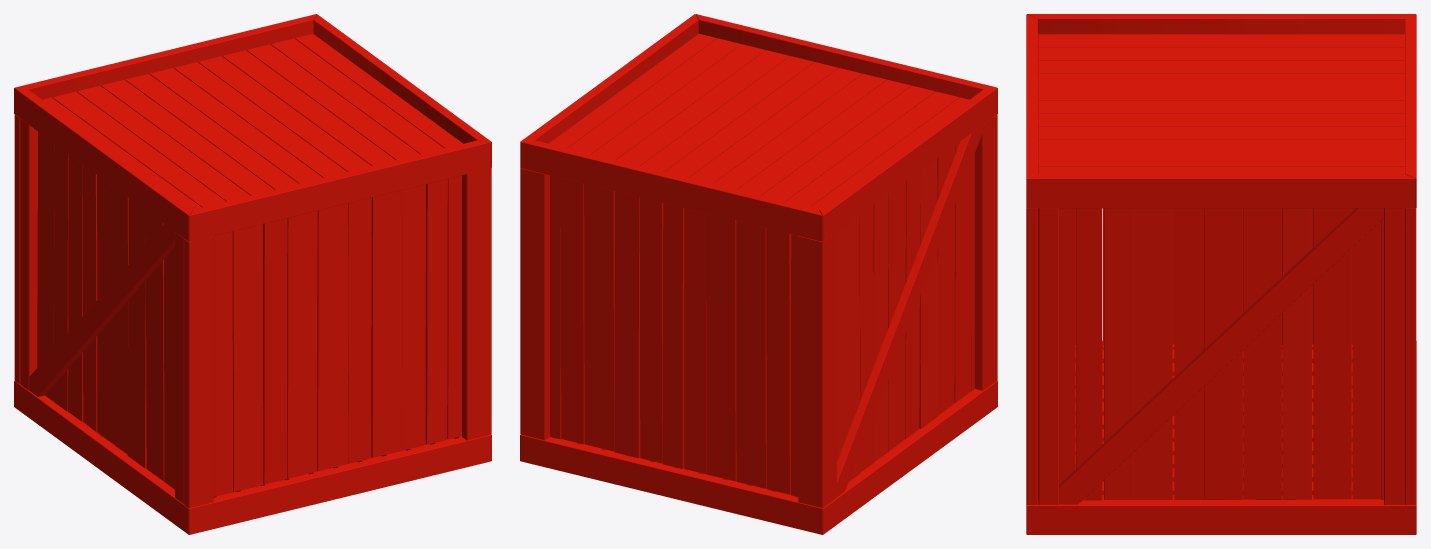
File: yashik.FBX
3 renders of one model, left to right at view 1: azimuth 30°, elevation 25°; view 2: azimuth 150°, elevation 25°; view 3: azimuth 270°, elevation 25°, orthographic. The views are drawn at different scales.
Visible parts, largest first — view 1: Floor_Object009, Floor_Object007, Group001, Floor_Object008, Rectangle007, Rectangle004, Rectangle005; view 2: Floor_Object010, Group001, Floor_Object007, Floor_Object008, Rectangle007, Rectangle005; view 3: Floor_Object011, Floor_Object007, Group001, Rectangle007, Rectangle005, Floor_Object012, Floor_Object008.
Boxes of the visible parts, bbox=[...] form: Floor_Object009: bbox=[213, 175, 461, 496]; Floor_Object007: bbox=[42, 34, 462, 209]; Group001: bbox=[14, 14, 491, 534]; Floor_Object008: bbox=[37, 131, 174, 489]; Rectangle007: bbox=[14, 114, 491, 507]; Rectangle004: bbox=[189, 435, 491, 534]; Rectangle005: bbox=[313, 14, 491, 167]; Floor_Object010: bbox=[550, 175, 798, 496]; Group001: bbox=[520, 14, 997, 534]; Floor_Object007: bbox=[549, 33, 969, 209]; Floor_Object008: bbox=[837, 141, 974, 481]; Rectangle007: bbox=[520, 114, 997, 507]; Rectangle005: bbox=[520, 14, 698, 143]; Floor_Object011: bbox=[1038, 208, 1383, 500]; Floor_Object007: bbox=[1038, 34, 1404, 173]; Group001: bbox=[1026, 14, 1416, 534]; Rectangle007: bbox=[1026, 208, 1416, 504]; Rectangle005: bbox=[1026, 174, 1415, 208]; Floor_Object012: bbox=[1038, 345, 1383, 500]; Floor_Object008: bbox=[1075, 208, 1352, 347].
Bounding box in the file's own units: 33.45 × 33.7 × 33.44.
